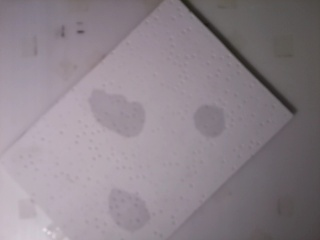Water_detected: (86, 89, 149, 139), (106, 180, 153, 226), (186, 99, 232, 144)
